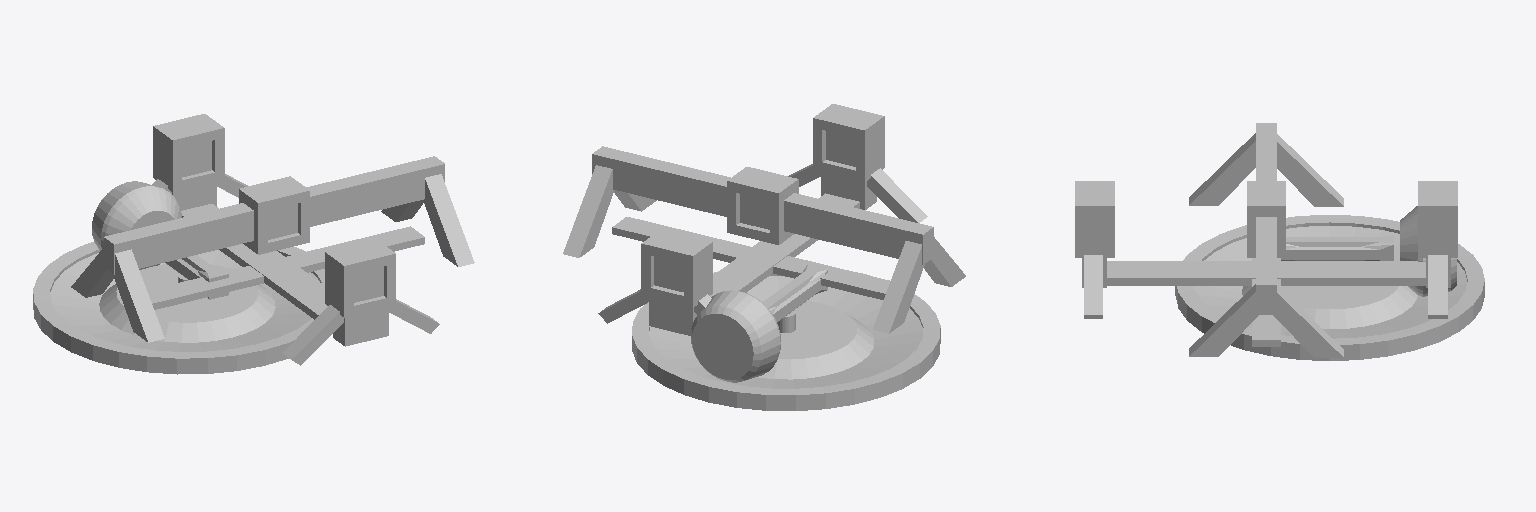
The model's file is millstone.obj.
The picture shows the model from 3 angles: view 1: azimuth 30°, elevation 25°; view 2: azimuth 150°, elevation 25°; view 3: azimuth 270°, elevation 25°; orthographic projection.
Parts seen in each view (by area): view 1: casing, plate, stone, axle; view 2: casing, plate, stone, axle; view 3: casing, plate, axle, stone.
Part boxes in pixels (x1,y1,x2,y2): casing: (71, 114, 474, 365); plate: (33, 242, 324, 374); stone: (92, 181, 181, 269); axle: (165, 255, 228, 299); casing: (563, 104, 965, 335); plate: (632, 271, 940, 410); stone: (691, 290, 780, 382); axle: (762, 264, 827, 321); casing: (1075, 123, 1457, 357); plate: (1175, 215, 1484, 360); axle: (1281, 235, 1393, 260); stone: (1400, 206, 1456, 296).
Bounding box in the file's own units: 3.21 × 1.18 × 3.22.